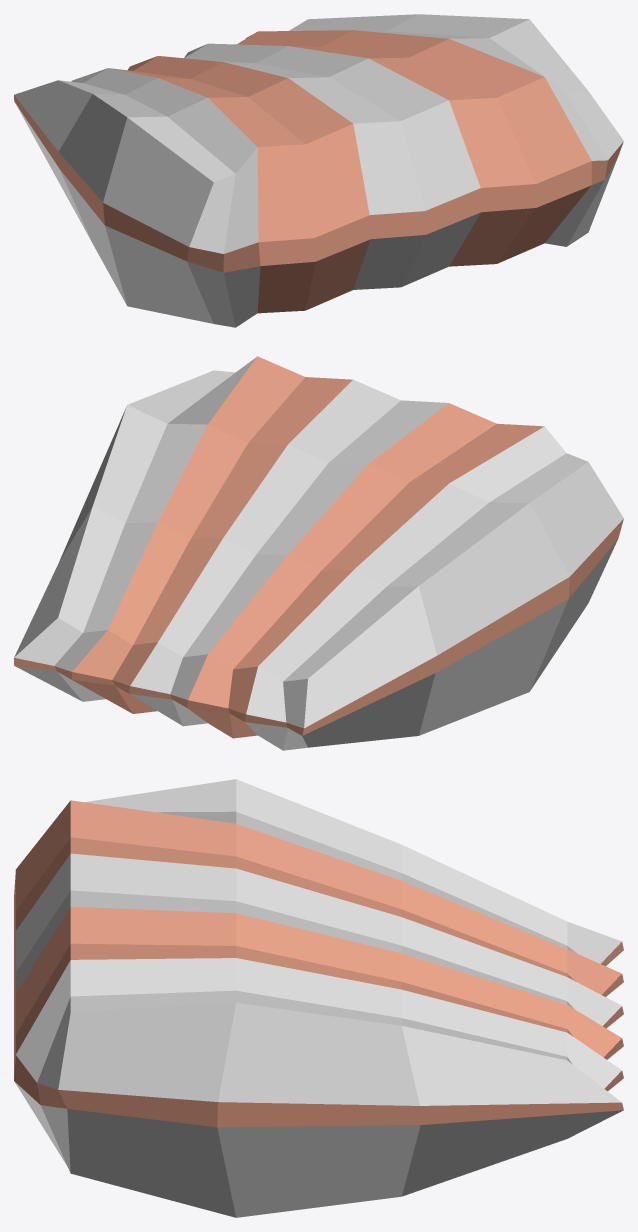
Rendered from ShellOne.fbx.
3 renders of one model, top to bottom at view 1: azimuth 30°, elevation 25°; view 2: azimuth 150°, elevation 25°; view 3: azimuth 270°, elevation 25°, orthographic. The views are drawn at different scales.
Visible parts, largest first — view 1: Cube; view 2: Cube; view 3: Cube.
Part boxes in pixels (x1,y1,x2,y2): Cube: (14,14,623,327); Cube: (14,356,623,750); Cube: (14,779,623,1217).
Bounding box in the file's own units: 408 × 173 × 406.
